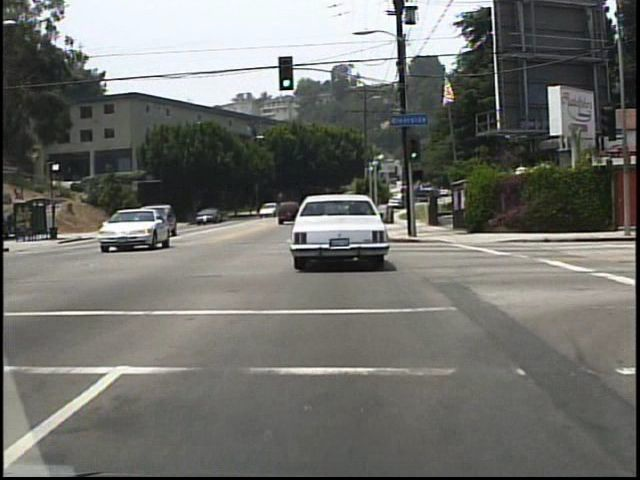person: (140, 209, 149, 228)
